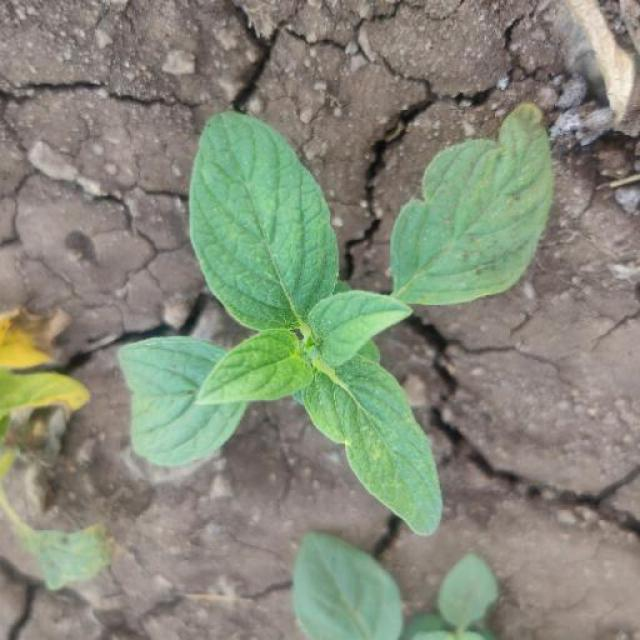crop: (96, 78, 554, 538)
